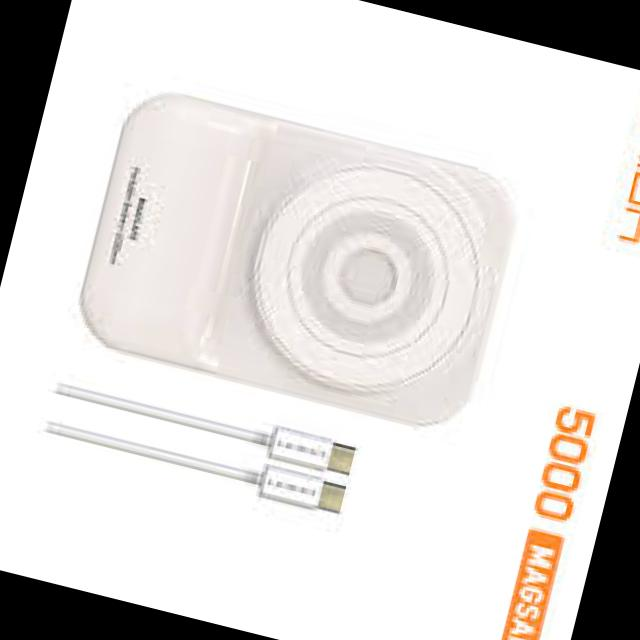portable-charger: (67, 81, 532, 448)
